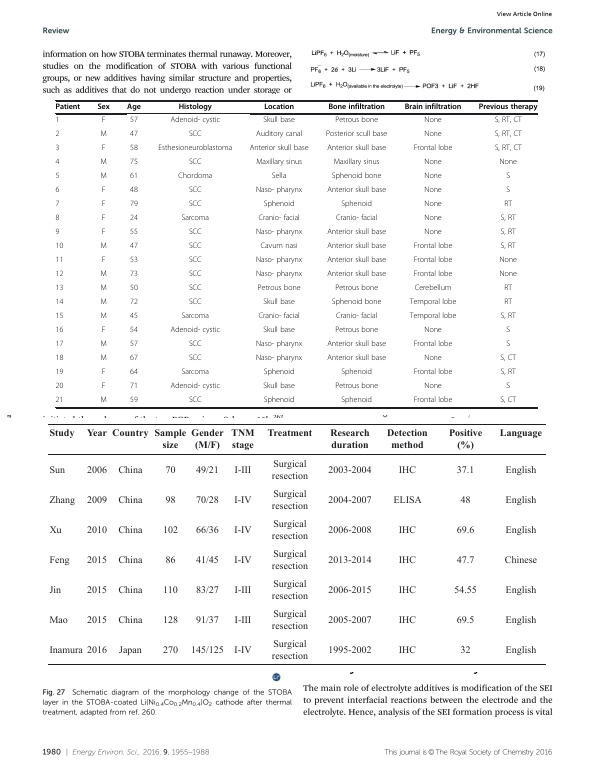borderless: (54, 99, 537, 407), (47, 423, 546, 664)
cell: (386, 429, 428, 452), (329, 429, 370, 452), (270, 489, 309, 513), (270, 460, 309, 483), (270, 519, 309, 542), (270, 549, 309, 572), (270, 579, 309, 602), (270, 609, 309, 632), (270, 639, 309, 662), (448, 429, 483, 452), (153, 429, 187, 452), (190, 429, 224, 452), (157, 144, 233, 154), (325, 130, 388, 140), (326, 144, 387, 154), (326, 186, 387, 196), (326, 228, 387, 238), (326, 242, 387, 252), (326, 256, 387, 266), (326, 270, 387, 280), (326, 340, 387, 350), (326, 354, 387, 364), (249, 144, 309, 154), (230, 429, 255, 452), (327, 495, 372, 507), (478, 103, 538, 112), (327, 103, 386, 112), (404, 103, 462, 112), (169, 116, 221, 126), (169, 326, 221, 336), (169, 382, 221, 392), (266, 429, 313, 440), (331, 172, 382, 182), (331, 298, 382, 308), (498, 429, 543, 440), (327, 466, 372, 477), (327, 525, 372, 536), (327, 555, 372, 566), (327, 585, 372, 596), (327, 615, 372, 626), (327, 645, 372, 656), (255, 130, 303, 140), (255, 158, 303, 168), (255, 186, 303, 196), (255, 228, 303, 238), (255, 256, 303, 266), (255, 270, 303, 280), (409, 298, 457, 308), (409, 312, 457, 322), (255, 340, 303, 350), (255, 354, 303, 364), (333, 158, 380, 168), (334, 116, 379, 126), (334, 284, 379, 294), (334, 326, 379, 336), (334, 382, 379, 392), (257, 214, 301, 224), (257, 284, 301, 294), (257, 312, 301, 322), (335, 214, 378, 224), (335, 312, 378, 322), (111, 429, 149, 440), (413, 144, 453, 154), (259, 242, 299, 252), (413, 242, 453, 252), (413, 256, 453, 266), (413, 270, 453, 280), (413, 340, 453, 350), (413, 368, 453, 378), (413, 396, 453, 406), (504, 495, 537, 507), (503, 555, 538, 566), (48, 645, 83, 656), (414, 284, 452, 294), (190, 645, 224, 656), (504, 466, 537, 477), (504, 525, 537, 536), (504, 585, 537, 596), (504, 615, 537, 626), (504, 645, 537, 656), (392, 495, 422, 507), (177, 172, 213, 182), (262, 116, 296, 126), (262, 298, 296, 308), (262, 326, 296, 336), (262, 382, 296, 392), (48, 495, 76, 507), (340, 200, 373, 210), (340, 368, 373, 378), (340, 396, 373, 406), (263, 200, 295, 210), (263, 368, 295, 378), (263, 396, 295, 406), (178, 103, 213, 112), (117, 495, 143, 507), (180, 214, 210, 224), (180, 312, 210, 322), (180, 368, 210, 378), (48, 429, 75, 440), (494, 116, 523, 126), (494, 130, 523, 140), (494, 144, 523, 154), (195, 495, 219, 507), (263, 103, 295, 112), (117, 466, 143, 477), (117, 525, 143, 536), (117, 555, 143, 566), (117, 585, 143, 596), (117, 615, 143, 626), (195, 466, 219, 477), (86, 495, 108, 507), (195, 525, 219, 536), (195, 555, 219, 566), (195, 585, 219, 596), (453, 585, 477, 596), (195, 615, 219, 626), (118, 645, 142, 656), (86, 429, 108, 440), (85, 466, 107, 477), (85, 525, 107, 536), (48, 555, 70, 566), (86, 555, 108, 566), (86, 585, 108, 596), (86, 615, 108, 626), (86, 645, 108, 656), (55, 103, 81, 112), (233, 495, 252, 507), (397, 466, 417, 477), (455, 466, 475, 477), (397, 525, 417, 536), (455, 525, 475, 536), (397, 555, 417, 566), (455, 555, 475, 566), (397, 585, 417, 596), (48, 615, 68, 626), (397, 615, 417, 626), (455, 615, 475, 626), (397, 645, 417, 656), (233, 466, 252, 477), (233, 525, 252, 536), (233, 555, 252, 566), (233, 585, 252, 596), (233, 615, 252, 626), (233, 645, 252, 656), (423, 116, 443, 126), (423, 130, 443, 140), (423, 158, 443, 168), (498, 158, 518, 168), (423, 172, 443, 182), (423, 186, 443, 196), (423, 200, 443, 210), (423, 214, 443, 224), (423, 228, 443, 238), (498, 256, 518, 266), (498, 270, 518, 280), (423, 326, 443, 336), (423, 354, 443, 364), (423, 382, 443, 392), (48, 466, 66, 477), (162, 525, 179, 536), (162, 615, 179, 626), (162, 645, 179, 656), (499, 354, 517, 364), (499, 396, 517, 406), (162, 585, 178, 596), (500, 214, 517, 224), (500, 228, 517, 238), (500, 242, 517, 252), (500, 312, 517, 322), (500, 368, 517, 378), (271, 172, 287, 182), (48, 525, 62, 536), (48, 585, 62, 596), (164, 495, 176, 507), (459, 495, 471, 507), (126, 103, 142, 112), (188, 130, 202, 140), (188, 158, 202, 168), (188, 186, 202, 196), (188, 200, 202, 210), (188, 228, 202, 238), (188, 242, 202, 252), (188, 256, 202, 266), (188, 270, 202, 280), (188, 284, 202, 294), (188, 298, 202, 308), (188, 340, 202, 350), (188, 354, 202, 364), (188, 396, 202, 406), (96, 103, 111, 112), (164, 466, 176, 477), (164, 555, 176, 566), (459, 645, 471, 656), (129, 116, 139, 126), (129, 130, 139, 140), (129, 144, 139, 154), (129, 158, 139, 168), (129, 172, 139, 182), (129, 186, 139, 196), (129, 200, 139, 210), (503, 200, 513, 210), (129, 214, 139, 224), (129, 228, 139, 238), (129, 242, 139, 252), (129, 256, 139, 266), (129, 270, 139, 280), (129, 284, 139, 294), (503, 284, 513, 294), (129, 298, 139, 308), (503, 298, 513, 308), (129, 312, 139, 322), (129, 326, 139, 336), (129, 340, 139, 350), (129, 354, 139, 364), (129, 368, 139, 378), (129, 382, 139, 392), (129, 396, 139, 406), (99, 130, 108, 140), (99, 158, 108, 168), (99, 172, 108, 182), (55, 242, 64, 252), (99, 242, 108, 252), (55, 256, 64, 266), (55, 270, 64, 280), (99, 270, 108, 280), (55, 284, 64, 294), (99, 284, 108, 294), (55, 298, 64, 308), (99, 298, 108, 308), (55, 312, 64, 322), (99, 312, 108, 322), (55, 326, 64, 336), (55, 340, 64, 350), (99, 340, 108, 350), (55, 354, 64, 364), (99, 354, 108, 364), (55, 368, 64, 378), (55, 382, 64, 392), (55, 396, 64, 406), (99, 396, 108, 406), (505, 172, 511, 182), (505, 186, 511, 196), (505, 326, 511, 336), (505, 340, 511, 350), (505, 382, 511, 392), (55, 116, 60, 126), (101, 116, 106, 126), (55, 130, 60, 140), (55, 144, 60, 154), (101, 144, 106, 154), (55, 158, 60, 168), (55, 172, 60, 182), (55, 186, 60, 196), (101, 186, 106, 196), (55, 200, 60, 210), (101, 200, 106, 210), (55, 214, 60, 224), (101, 214, 106, 224), (55, 228, 60, 238), (101, 228, 106, 238), (101, 256, 106, 266), (101, 326, 106, 336), (101, 368, 106, 378), (101, 382, 106, 392)
